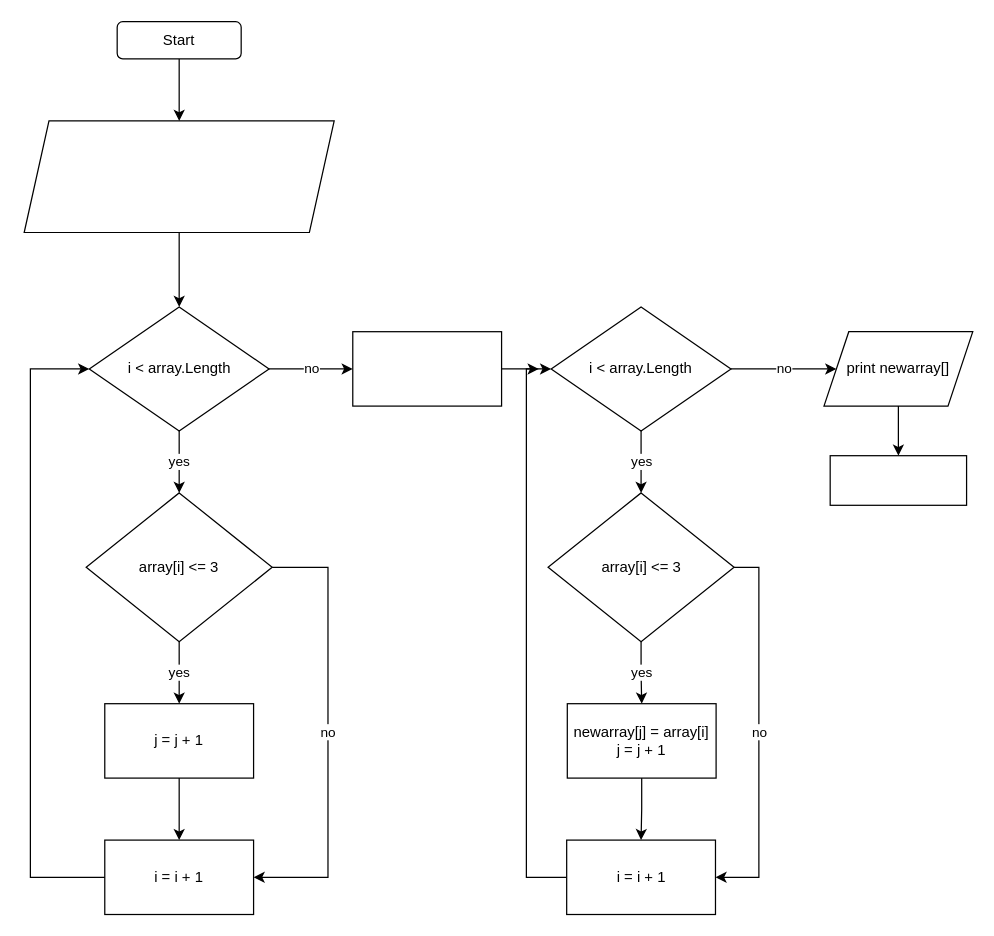
Some shapes in this 994 by 936 pixel diagram are drawn without their labels. Here are the shapes that lost their labels. From the top down, the box of each, then its label:
(23, 120, 334, 232): array[hello, -2, 5678, -)), fgh] i = 0 j = 0
(352, 330, 502, 406): create newarray[lenght=j] i = 0 j = 0
(829, 454, 967, 505): end
